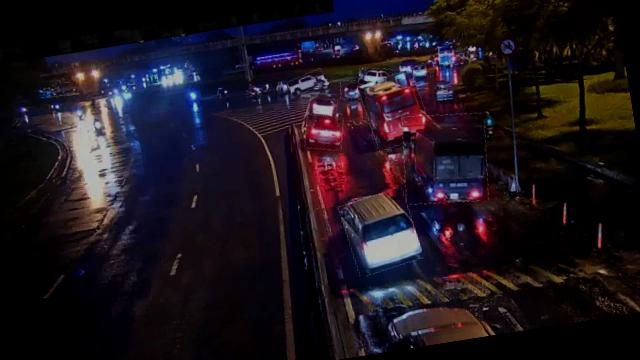Bus: (360, 69, 432, 150)
Car: (339, 187, 422, 276), (302, 108, 348, 154), (286, 70, 326, 94), (306, 90, 339, 119), (358, 63, 395, 88), (340, 78, 368, 101)
Truck: (396, 106, 496, 209)
